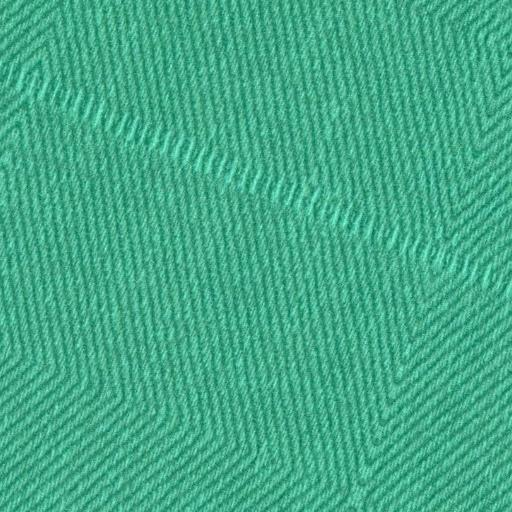slub: (2, 53, 511, 303)
